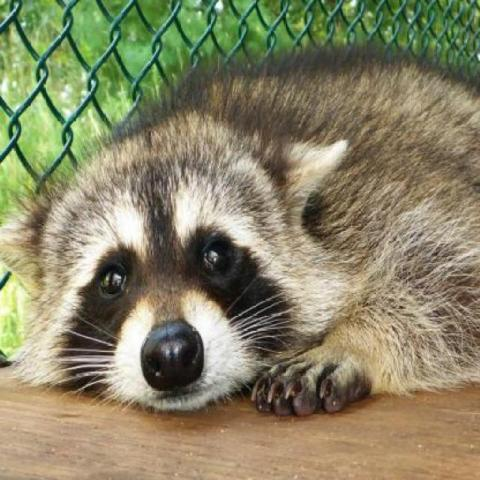small_animal: (0, 41, 479, 420)
